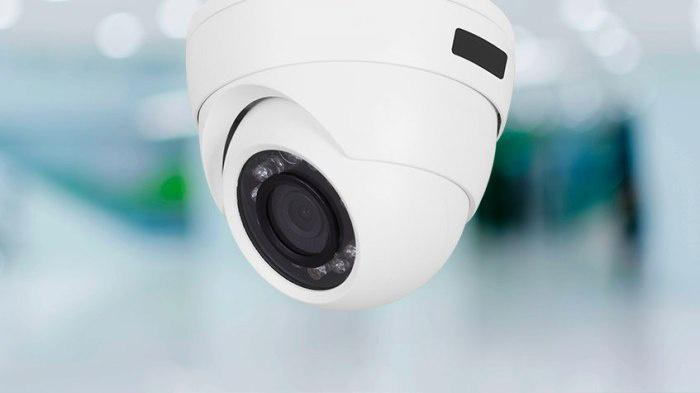camera: (114, 0, 537, 335)
